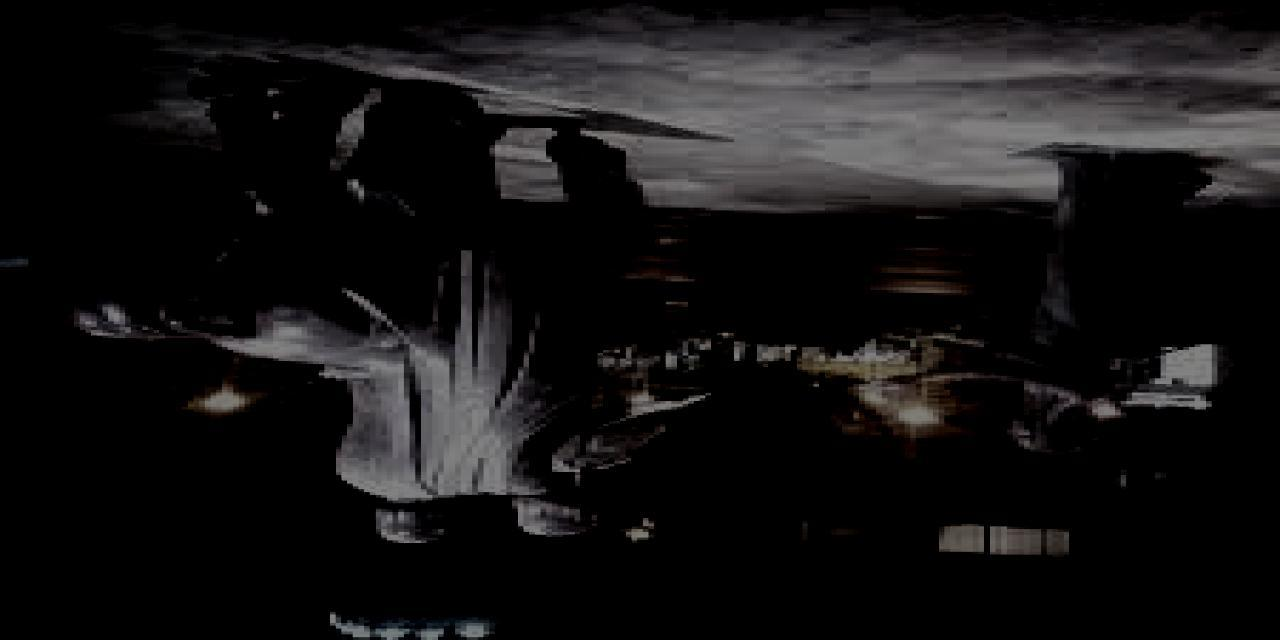Aretousa: (50, 65, 1218, 543)
